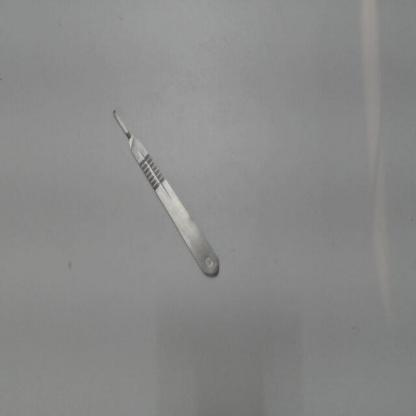No.3 BP Handle: (99, 94, 238, 296)
